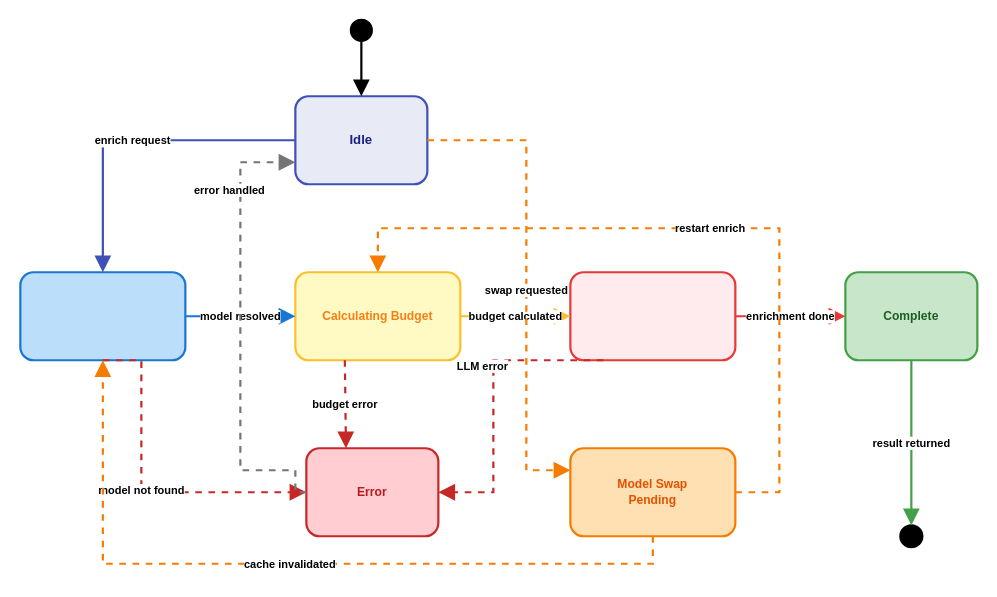
The diagram is 997 pixels wide and 597 high, and some of its shapes have lost their labels. The shapes that lost their labels are listed below. From the top down, each one's centre as x and y in pixels, then its label:
pixel 102 316: Resolving Model
pixel 652 316: Enriching
